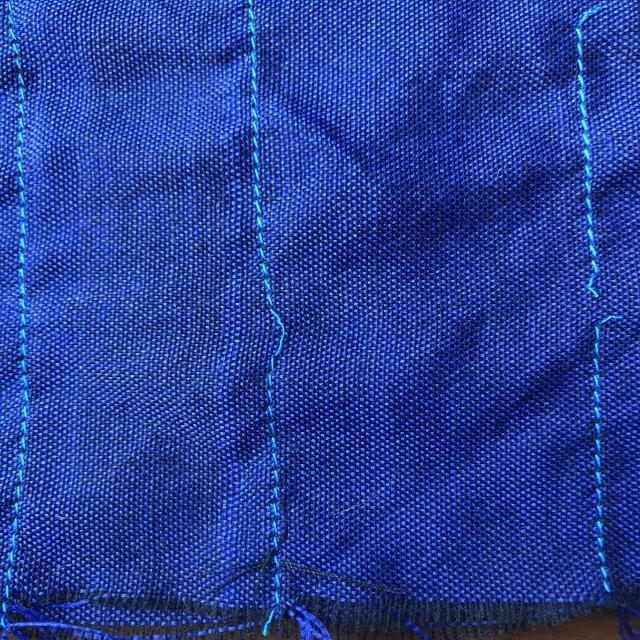broken: (564, 255, 631, 342)
good: (226, 145, 288, 226)
skip: (240, 288, 304, 388)
